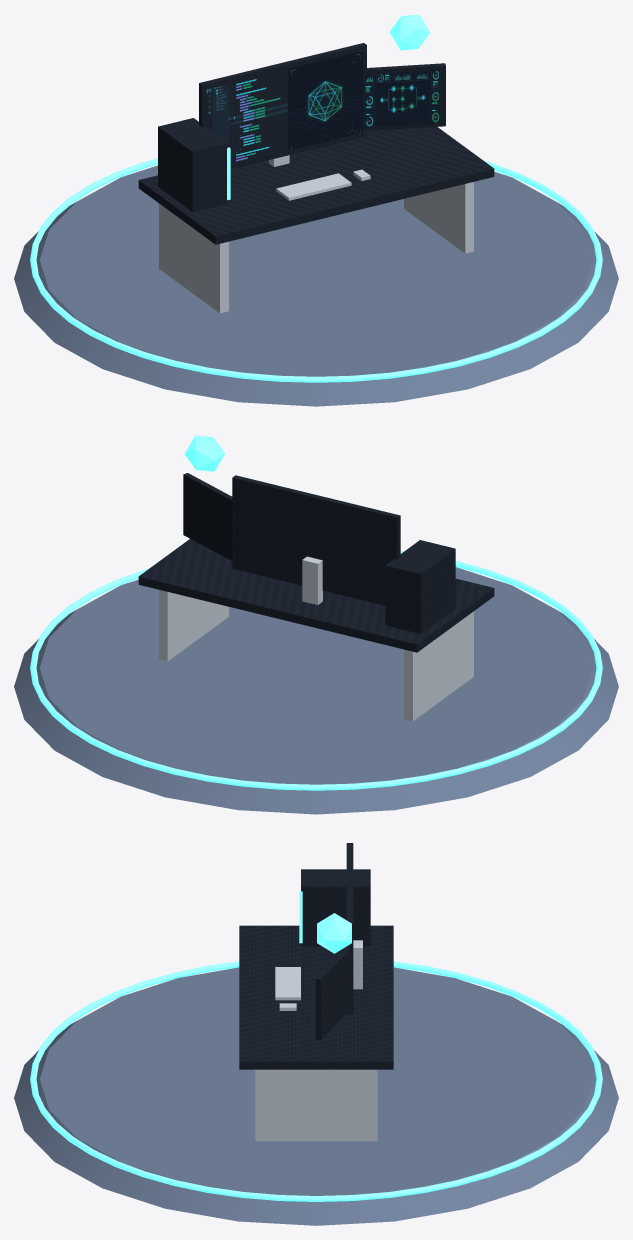
File: workstation.glb
3 views of the same model, one above another, from view 1: azimuth 30°, elevation 25°; view 2: azimuth 150°, elevation 25°; view 3: azimuth 270°, elevation 25° (orthographic).
Visible parts, largest first — view 1: ws_plinth, ws_desk_top, ws_mon_screen, ws_ring, ws_pc_case, ws_leg_l, ws_side_screen, ws_leg_r, ws_mon_frame, ws_side_frame, ws_keyboard, ws_holo_core; view 2: ws_plinth, ws_mon_frame, ws_desk_top, ws_ring, ws_pc_case, ws_leg_l, ws_side_frame, ws_leg_r, ws_holo_core, ws_mon_stand; view 3: ws_plinth, ws_desk_top, ws_leg_r, ws_ring, ws_pc_case, ws_side_frame, ws_holo_core, ws_mon_frame, ws_keyboard.
Boxes of the visible parts, x1=… form: ws_plinth: x1=14, y1=165, x2=618, y2=406; ws_desk_top: x1=138, y1=127, x2=494, y2=244; ws_mon_screen: x1=206, y1=51, x2=362, y2=164; ws_ring: x1=30, y1=158, x2=602, y2=382; ws_pc_case: x1=158, y1=118, x2=228, y2=211; ws_leg_l: x1=159, y1=203, x2=228, y2=313; ws_side_screen: x1=363, y1=70, x2=442, y2=127; ws_leg_r: x1=404, y1=182, x2=473, y2=253; ws_mon_frame: x1=199, y1=43, x2=366, y2=169; ws_side_frame: x1=363, y1=63, x2=445, y2=131; ws_keyboard: x1=276, y1=173, x2=351, y2=200; ws_holo_core: x1=389, y1=14, x2=430, y2=50; ws_plinth: x1=14, y1=567, x2=618, y2=814; ws_mon_frame: x1=232, y1=475, x2=400, y2=605; ws_desk_top: x1=138, y1=539, x2=494, y2=652; ws_ring: x1=30, y1=551, x2=602, y2=790; ws_pc_case: x1=385, y1=540, x2=455, y2=633; ws_leg_l: x1=404, y1=611, x2=473, y2=721; ws_side_frame: x1=183, y1=473, x2=237, y2=563; ws_leg_r: x1=159, y1=590, x2=228, y2=661; ws_holo_core: x1=184, y1=435, x2=225, y2=471; ws_mon_stand: x1=302, y1=556, x2=322, y2=604; ws_plinth: x1=14, y1=967, x2=618, y2=1225; ws_desk_top: x1=239, y1=925, x2=393, y2=1069; ws_leg_r: x1=255, y1=1069, x2=377, y2=1141; ws_ring: x1=30, y1=961, x2=602, y2=1201; ws_pc_case: x1=301, y1=869, x2=370, y2=946; ws_side_frame: x1=315, y1=946, x2=350, y2=1040; ws_holo_core: x1=317, y1=913, x2=351, y2=953; ws_mon_frame: x1=346, y1=843, x2=353, y2=1014; ws_keyboard: x1=275, y1=967, x2=300, y2=1000.
Size of the model in its own units: 4.7 by 1.98 by 4.7.
Materials: 6 (3 with a texture image).
